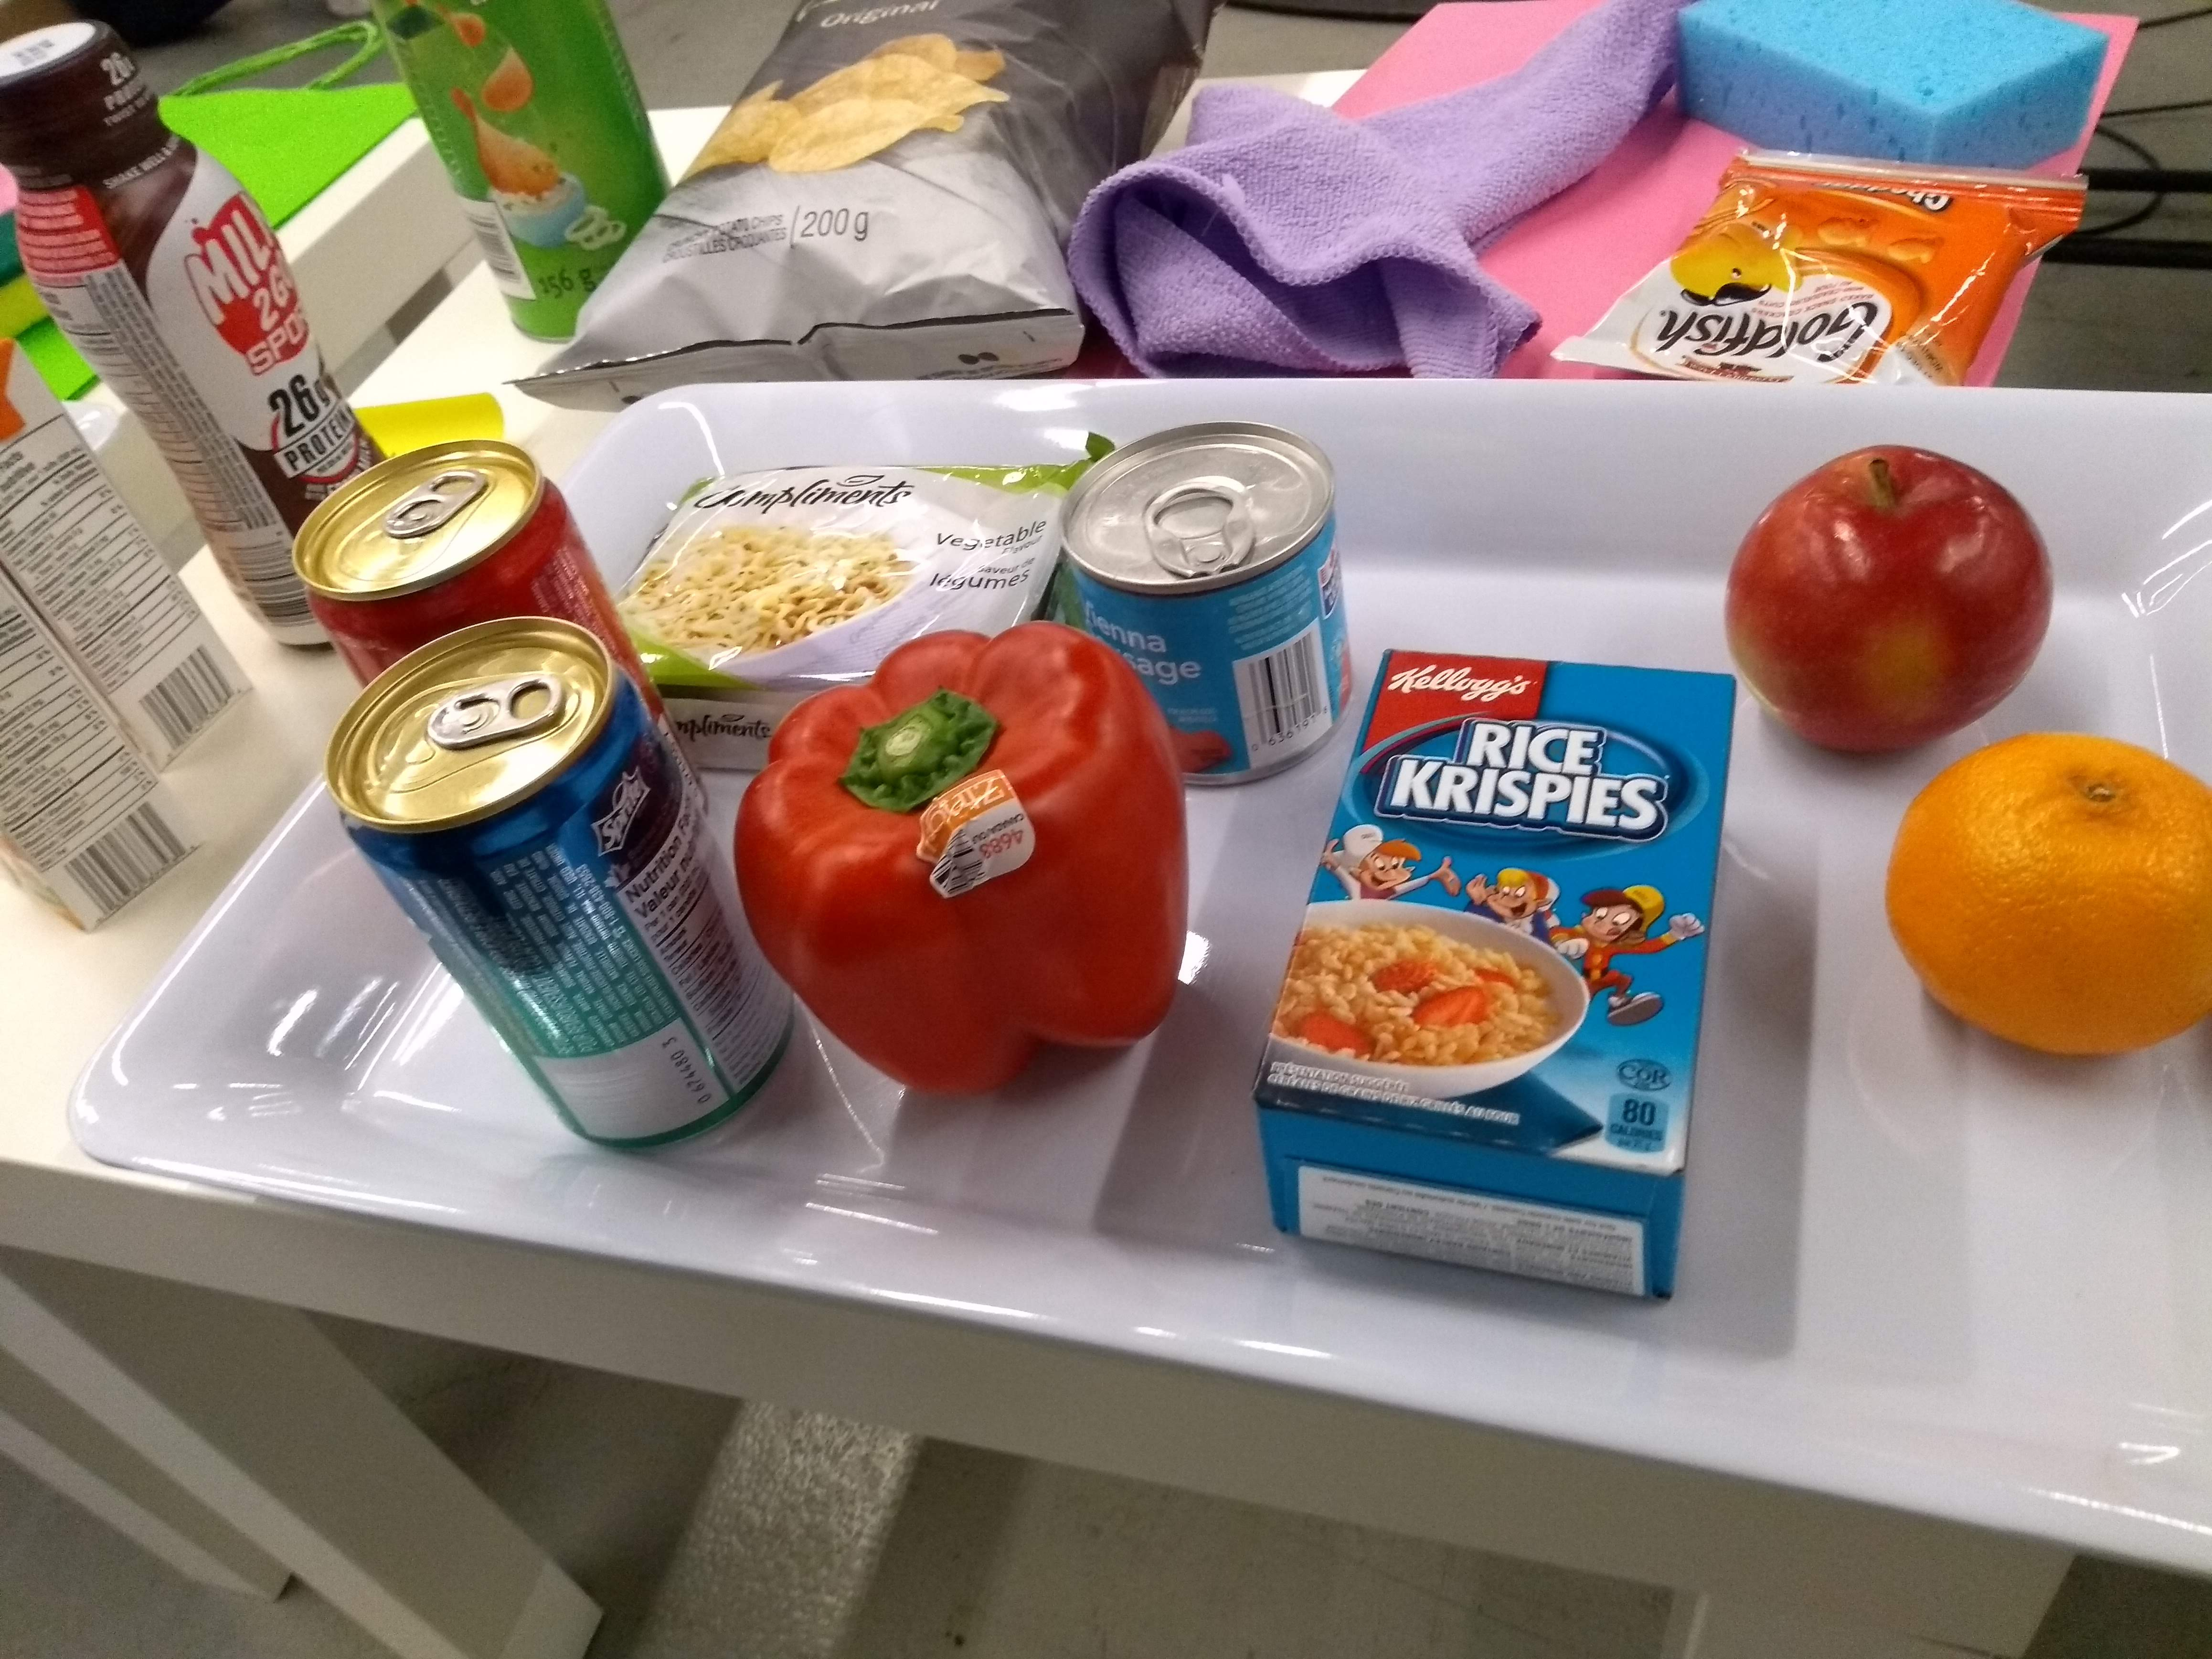apple: (1721, 437, 2066, 767)
cereal: (1240, 638, 1770, 1314)
crackers: (1548, 138, 2097, 401)
orange: (1878, 725, 2212, 1070)
paprika: (730, 615, 1205, 1122)
potato_chips: (505, 0, 1221, 425)
sausages: (1049, 411, 1372, 809)
sprite: (317, 605, 810, 1164)
